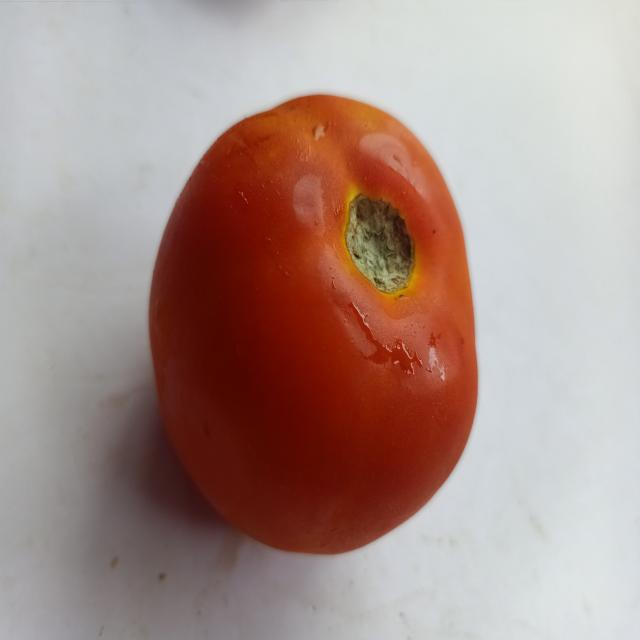Tomato: (126, 73, 502, 572)
